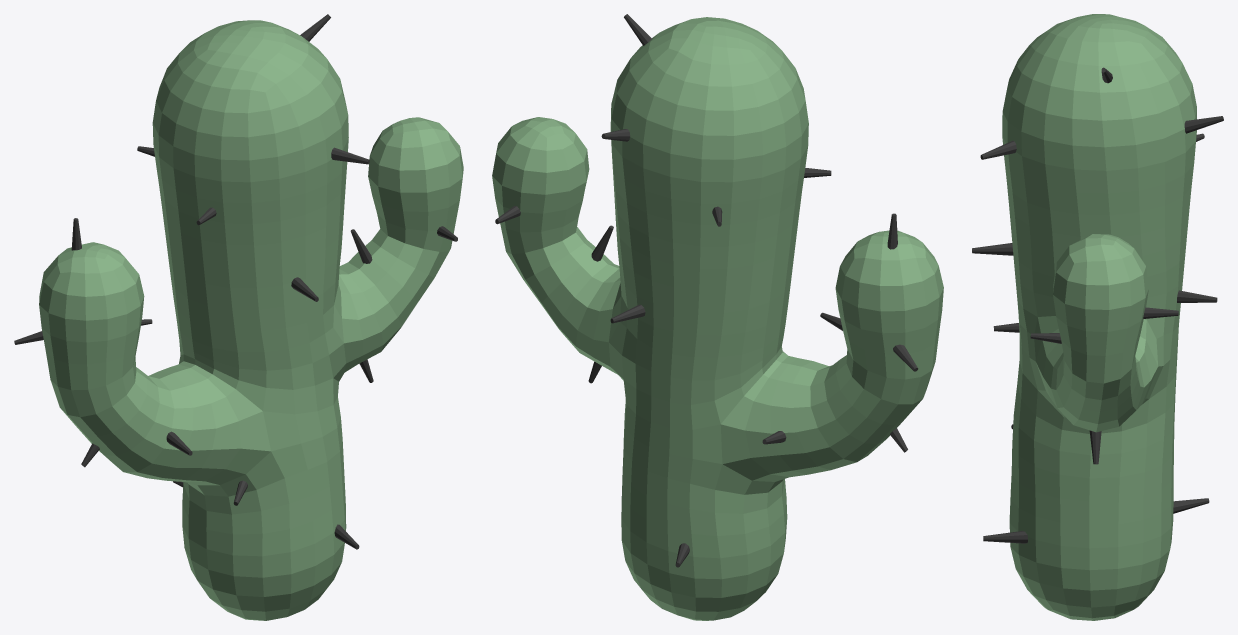
Rendered from GameJam_Kaktus.fbx.
3 views of the same model, side by side, from view 1: azimuth 30°, elevation 25°; view 2: azimuth 150°, elevation 25°; view 3: azimuth 270°, elevation 25° (orthographic).
Visible parts, largest first — view 1: StachelnShape; view 2: StachelnShape; view 3: StachelnShape.
Part boxes in pixels (x1,y1,x2,y2): StachelnShape: [14, 14, 463, 620]; StachelnShape: [492, 14, 943, 620]; StachelnShape: [972, 14, 1223, 620].
Size of the model in its own units: 3.06 by 3.98 by 1.55.
